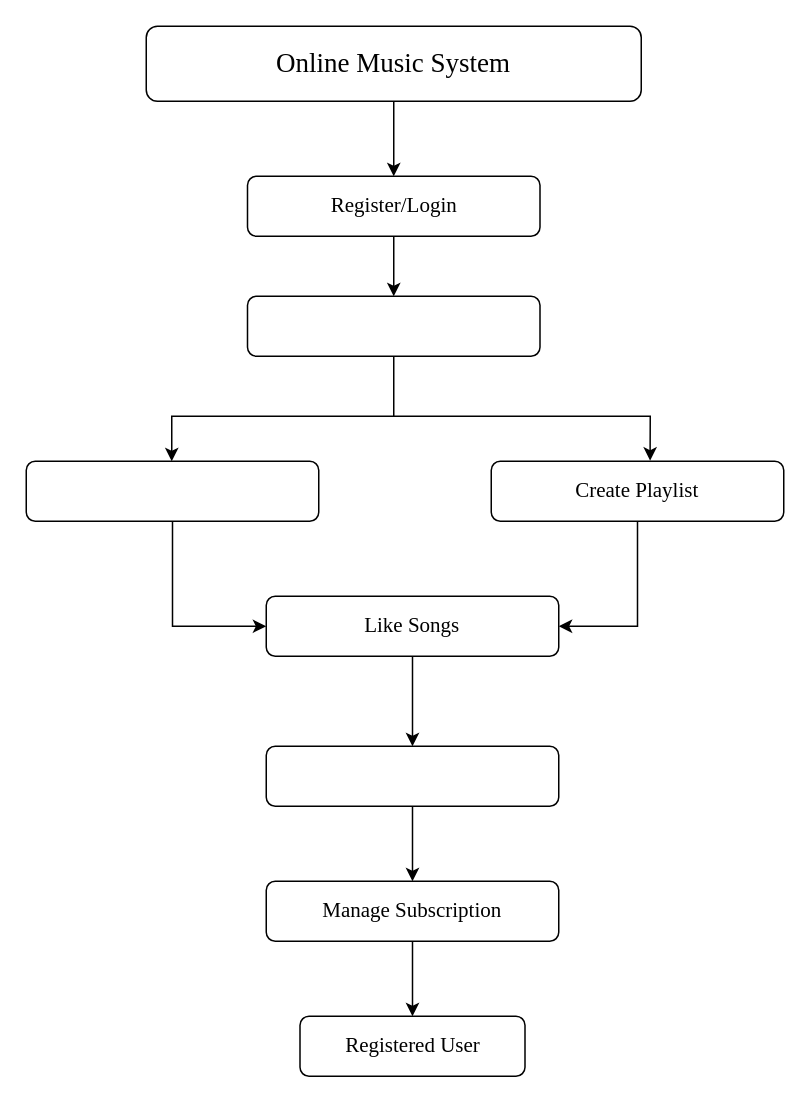
This 810x1103 diagram has some shape labels left out. Here are the shapes that lost their labels. From the top down, the centre of each, then its label:
pixel 393 325: Browse Songs
pixel 172 490: Stream/Download
pixel 412 775: View History
